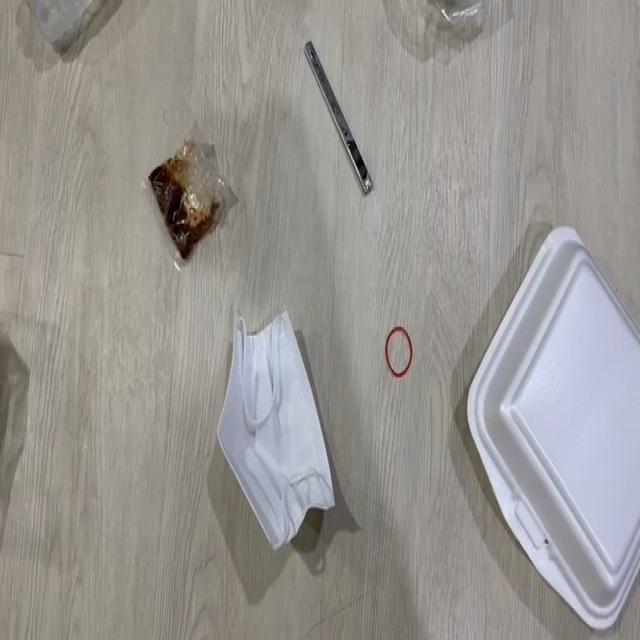Anorganik: (461, 218, 640, 630), (284, 35, 383, 198), (13, 0, 114, 69), (380, 321, 419, 381)
B3: (210, 302, 336, 560), (137, 106, 239, 270)
